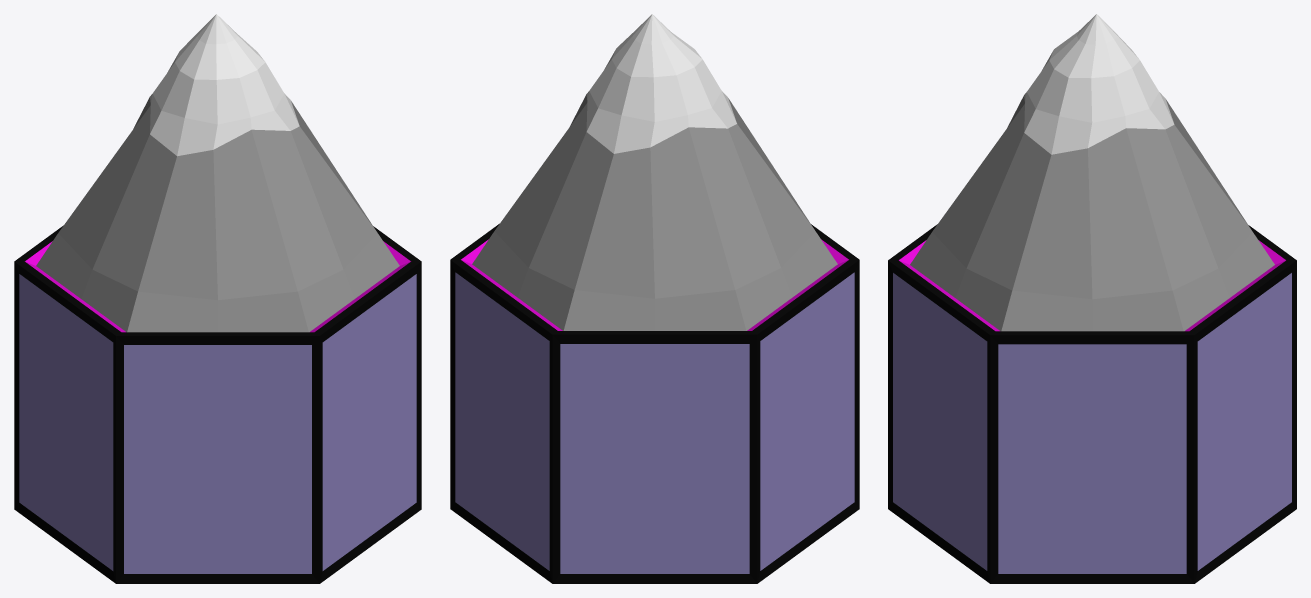
File: MountainHex.fbx
3 renders of one model, left to right at view 1: azimuth 30°, elevation 25°; view 2: azimuth 150°, elevation 25°; view 3: azimuth 270°, elevation 25°, orthographic.
Parts seen in each view (by area): view 1: Circle; view 2: Circle; view 3: Circle.
Boxes of the visible parts, x1=… form: Circle: x1=14, y1=14, x2=421, y2=583; Circle: x1=450, y1=14, x2=859, y2=583; Circle: x1=888, y1=14, x2=1296, y2=583.
Bounding box in the file's own units: 173 × 267 × 200.
